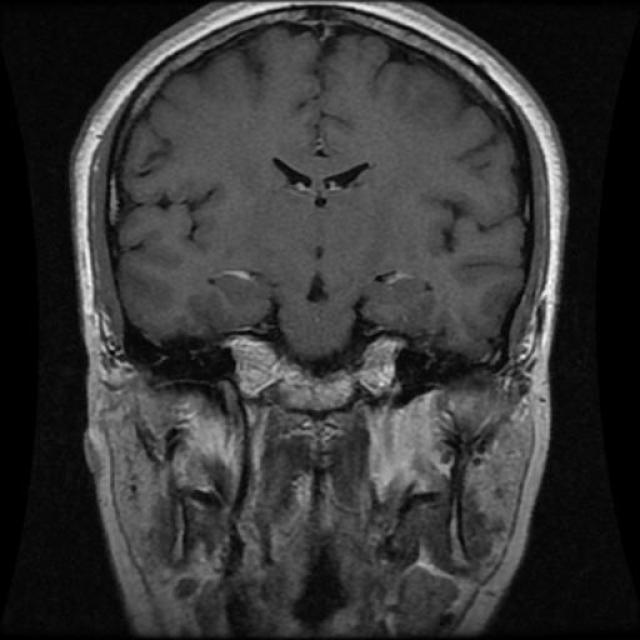pituitary: (218, 326, 412, 408)
